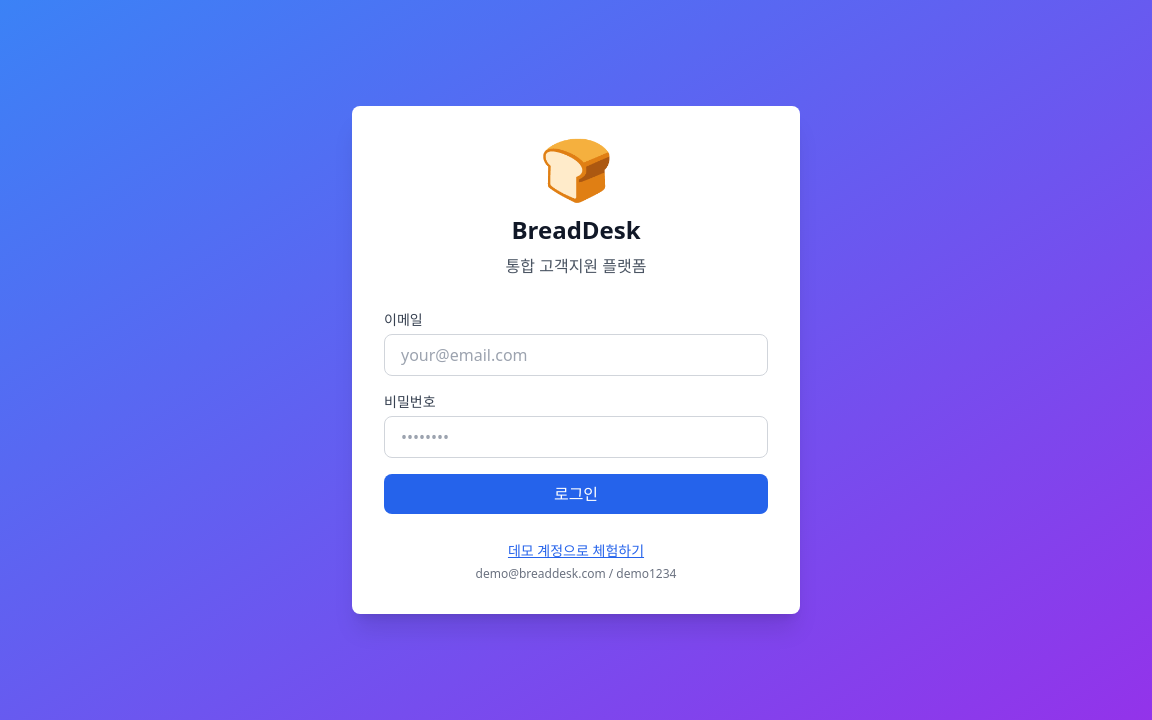
Test: LoginPage › should show loading state during login
The width and height of the screenshot is (1152, 720).
Step 1. Type "test@example.com" into the field labelled "이메일" → (576,355), box [384,334,768,376]
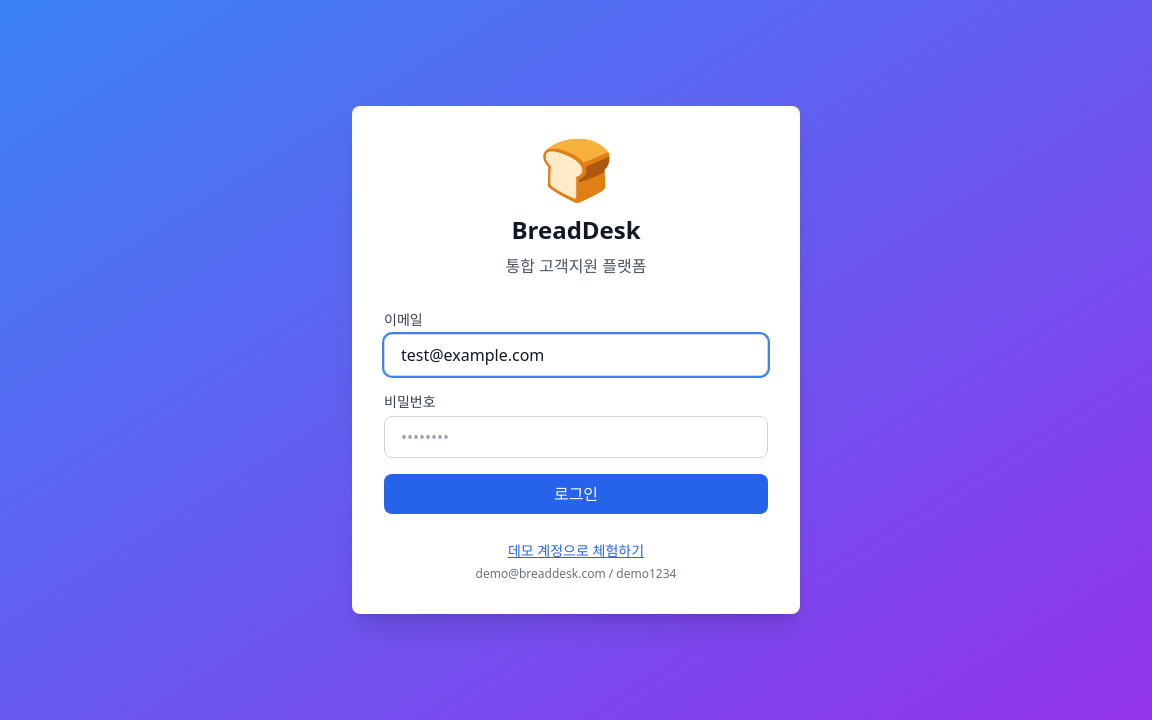
Step 2. Type "password123" into the password field labelled "비밀번호" → (576,437), box [384,416,768,458]
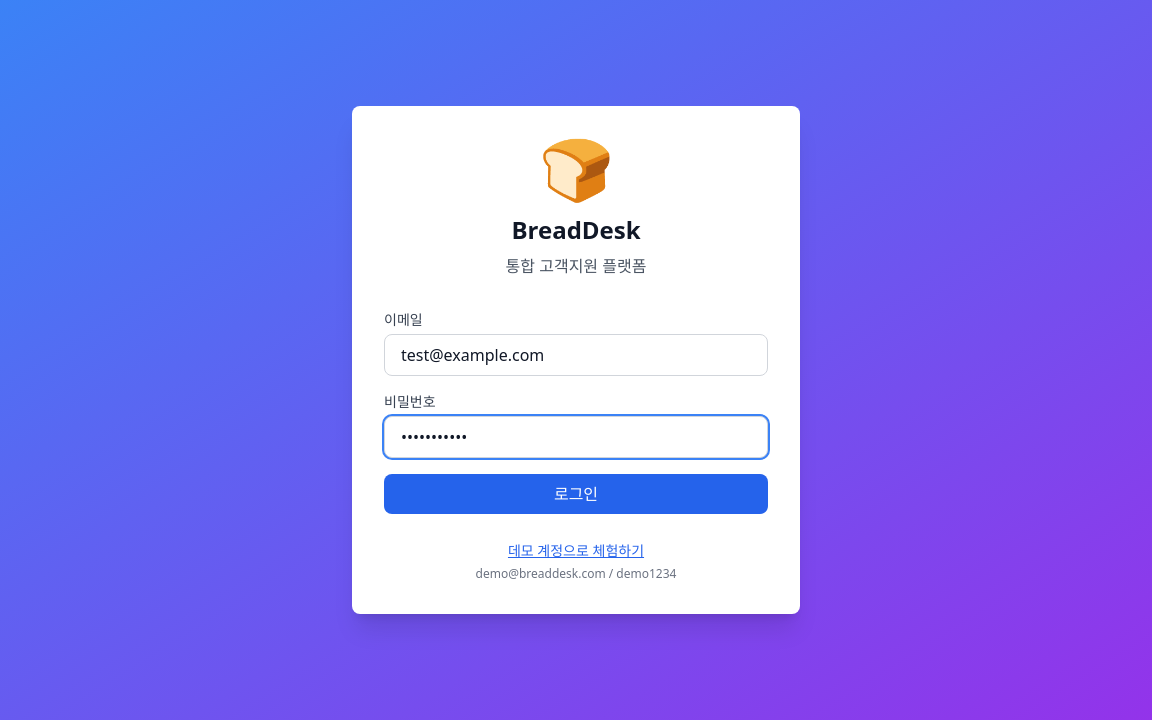
Step 3. Click the button "로그인" → (576,494), box [384,474,768,514]
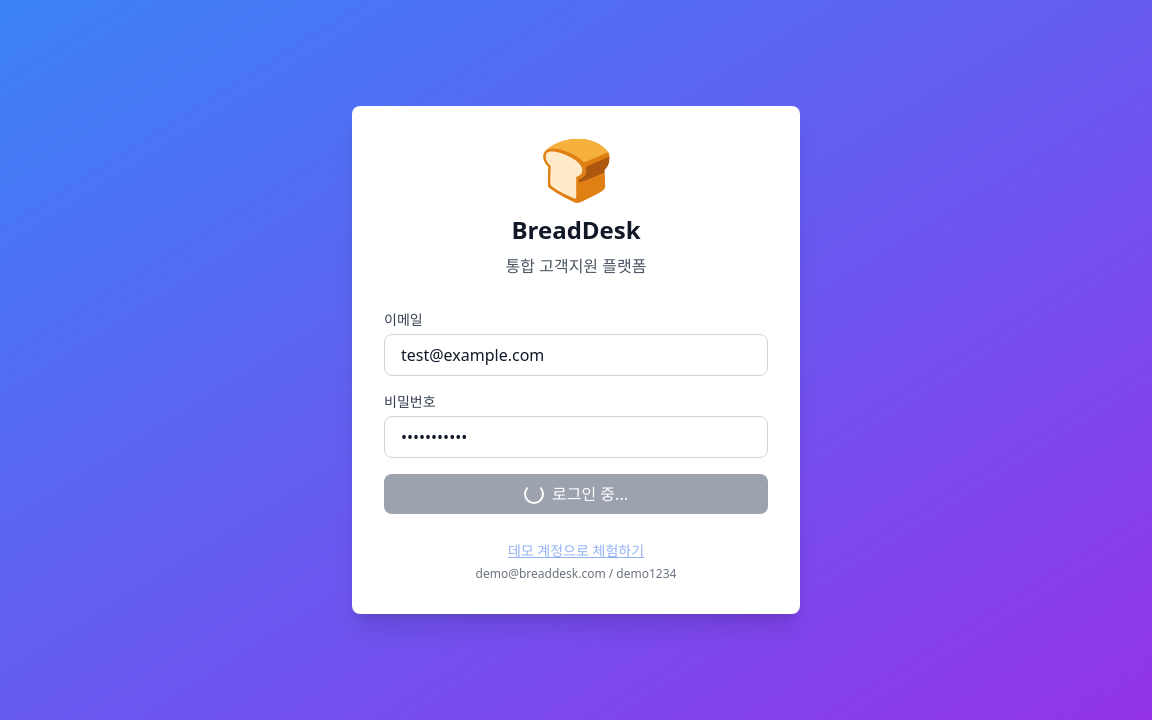
Now the button "로그인 중..." is disabled, box [384,474,768,514]
